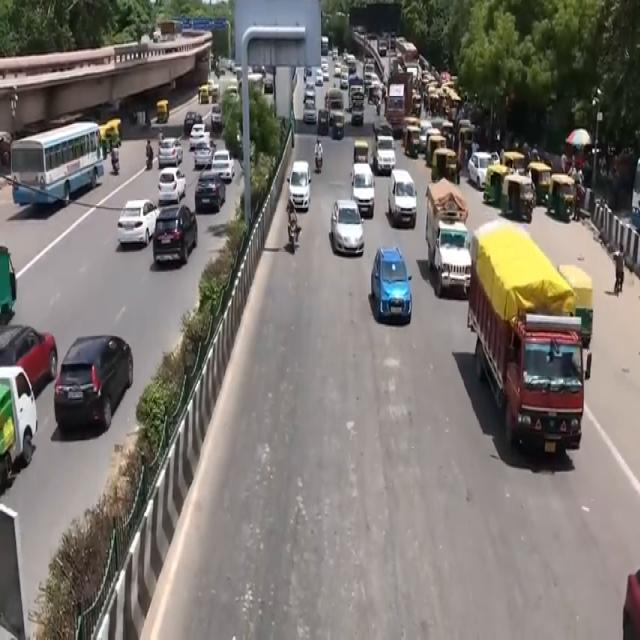BUS: (10, 120, 104, 214), (384, 82, 410, 126)
MOTORCYCLE: (286, 222, 300, 256)
SED: (54, 333, 134, 437), (332, 197, 364, 260)
SUV: (153, 204, 200, 274), (372, 248, 412, 322)
TRUCK: (471, 222, 588, 468), (431, 183, 474, 298), (0, 366, 38, 484)
